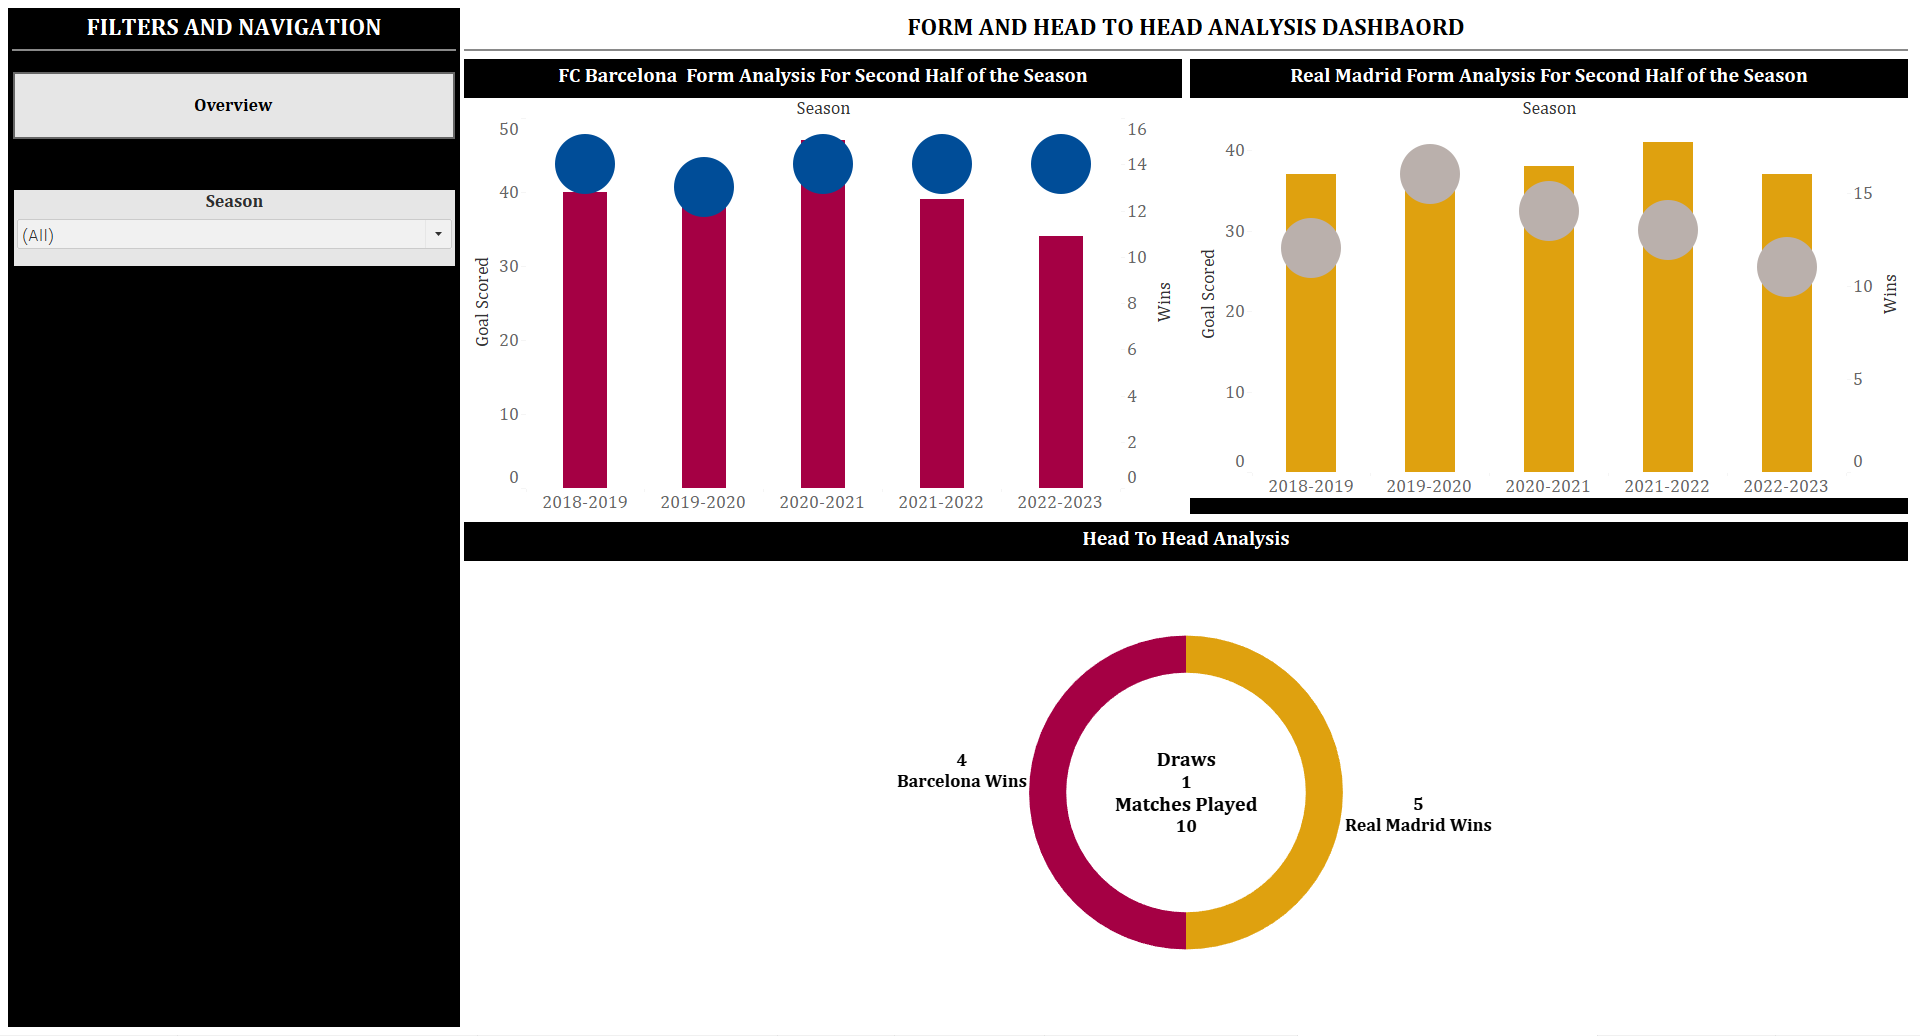

The dashboard page shown, as its layout file describes it:
{"tool":"tableau","page":{"name":"Form and Head to Head Analysis","canvas":[1000,1000],"units":"permille","ordinal":0},"visuals":[{"type":"text","box":[5,9.8,235,45.2]},{"type":"text","box":[240,9.8,755,45.2]},{"type":"blank","box":[5,55,235,12.2]},{"type":"blank","box":[240,55,755,12.2]},{"type":"worksheet","title":"FCB Form ","mark":"Automatic","rows":["GS","Wins"],"cols":["Season"],"box":[240,67.2,377.5,432.8]},{"type":"worksheet","title":"RM Form","mark":"Automatic","rows":["GS (RM Form Analysis)","Wins (RM Form Analysis)"],"cols":["Season (RM Form Analysis)"],"box":[617.5,67.2,377.5,432.8]},{"type":"dashboard-object","box":[6.8,69.7,230.2,64.8]},{"type":"filter","title":"FCB Form ","param":"[federated.0kg062g1ouwbfo1ax7rud1xeq7kf].[none:Season:nk]","box":[7.4,183.4,229.5,73.4]},{"type":"worksheet","title":"Head to Head","mark":"Pie","rows":["Calculation_568860930504617984","Calculation_568860930504617984"],"box":[240,500,755,490.2]}]}

Visuals, with their boxes on the dashboard's canvas, which has no fixed pixel size, in thousandths of its width and height (x1, y1, x2, y2). These are canvas units, not pixel positions in the 1920x1036 screenshot, which may show the page scaled, cropped or inside an application window:
text: bbox=(5, 10, 240, 55)
text: bbox=(240, 10, 995, 55)
blank: bbox=(5, 55, 240, 67)
blank: bbox=(240, 55, 995, 67)
"FCB Form " worksheet: bbox=(240, 67, 618, 500)
"RM Form" worksheet: bbox=(618, 67, 995, 500)
dashboard-object: bbox=(7, 70, 237, 134)
"FCB Form " filter: bbox=(7, 183, 237, 257)
"Head to Head" worksheet (Pie marks): bbox=(240, 500, 995, 990)
